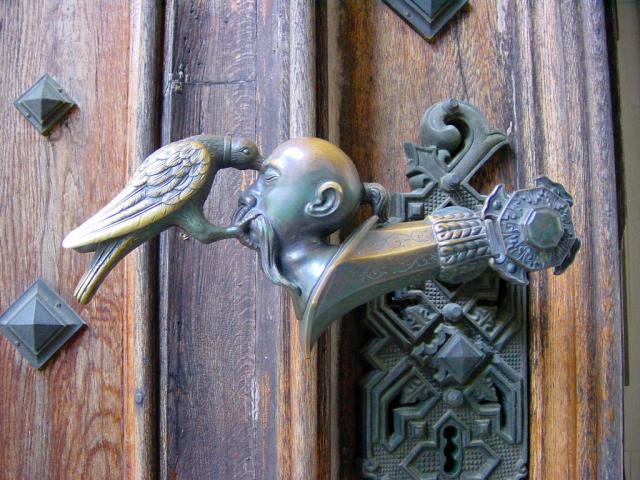Door-handle: (61, 94, 582, 480)
